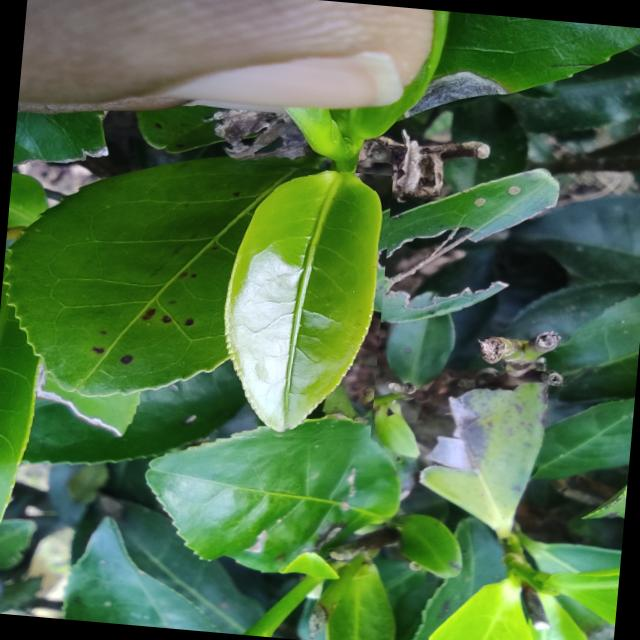Category B 2-4 days: (209, 162, 393, 448)
